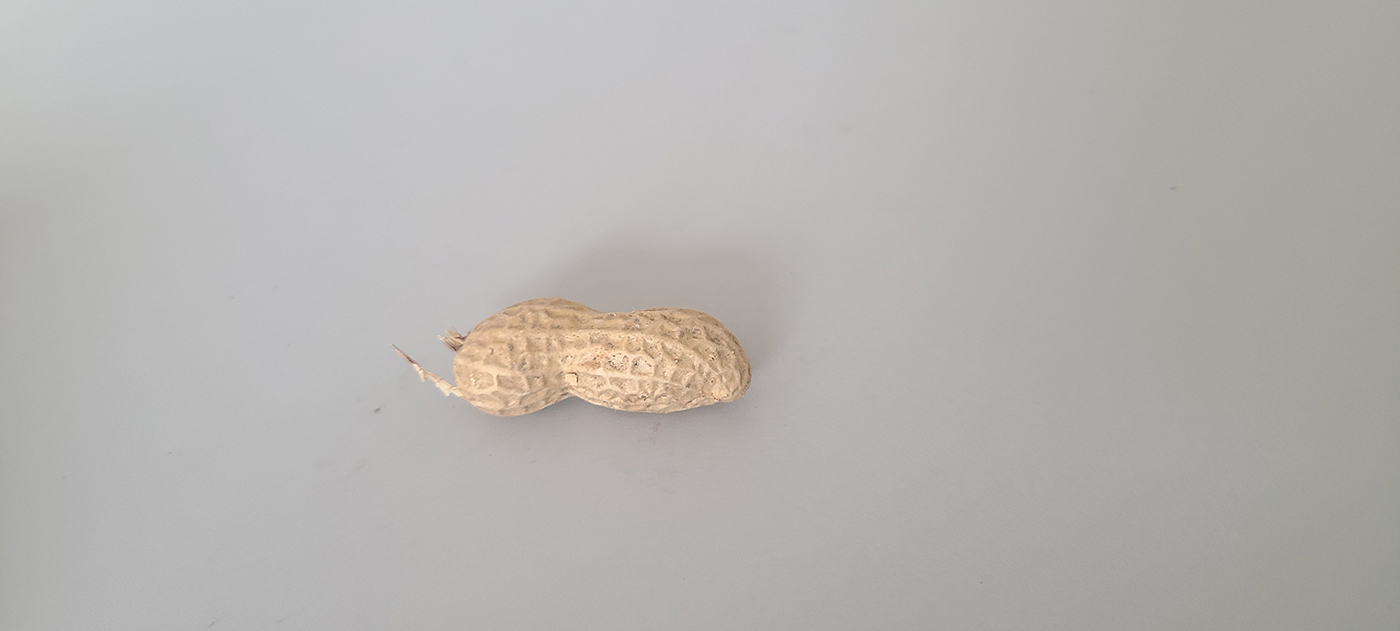h: (447, 297, 754, 422)
